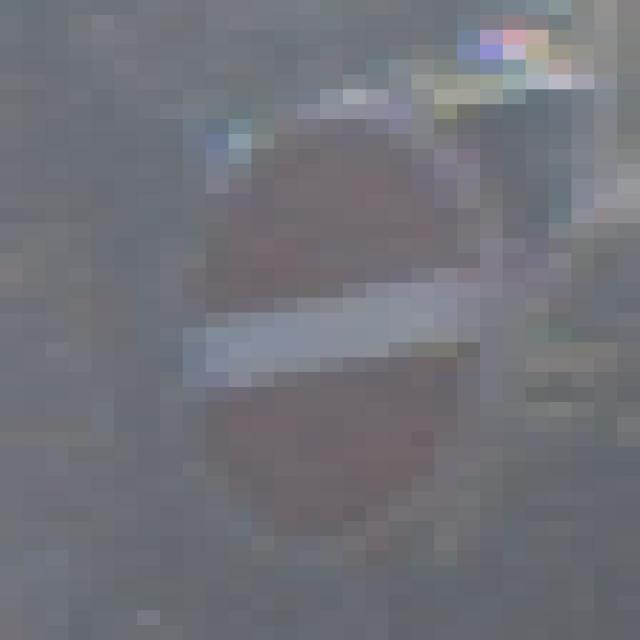No Entry: (138, 75, 504, 552)
